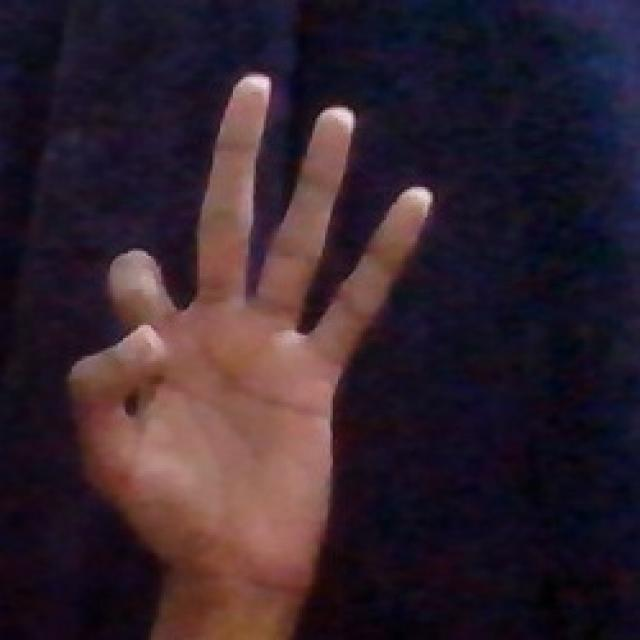Numeric-9: (62, 53, 428, 579)
